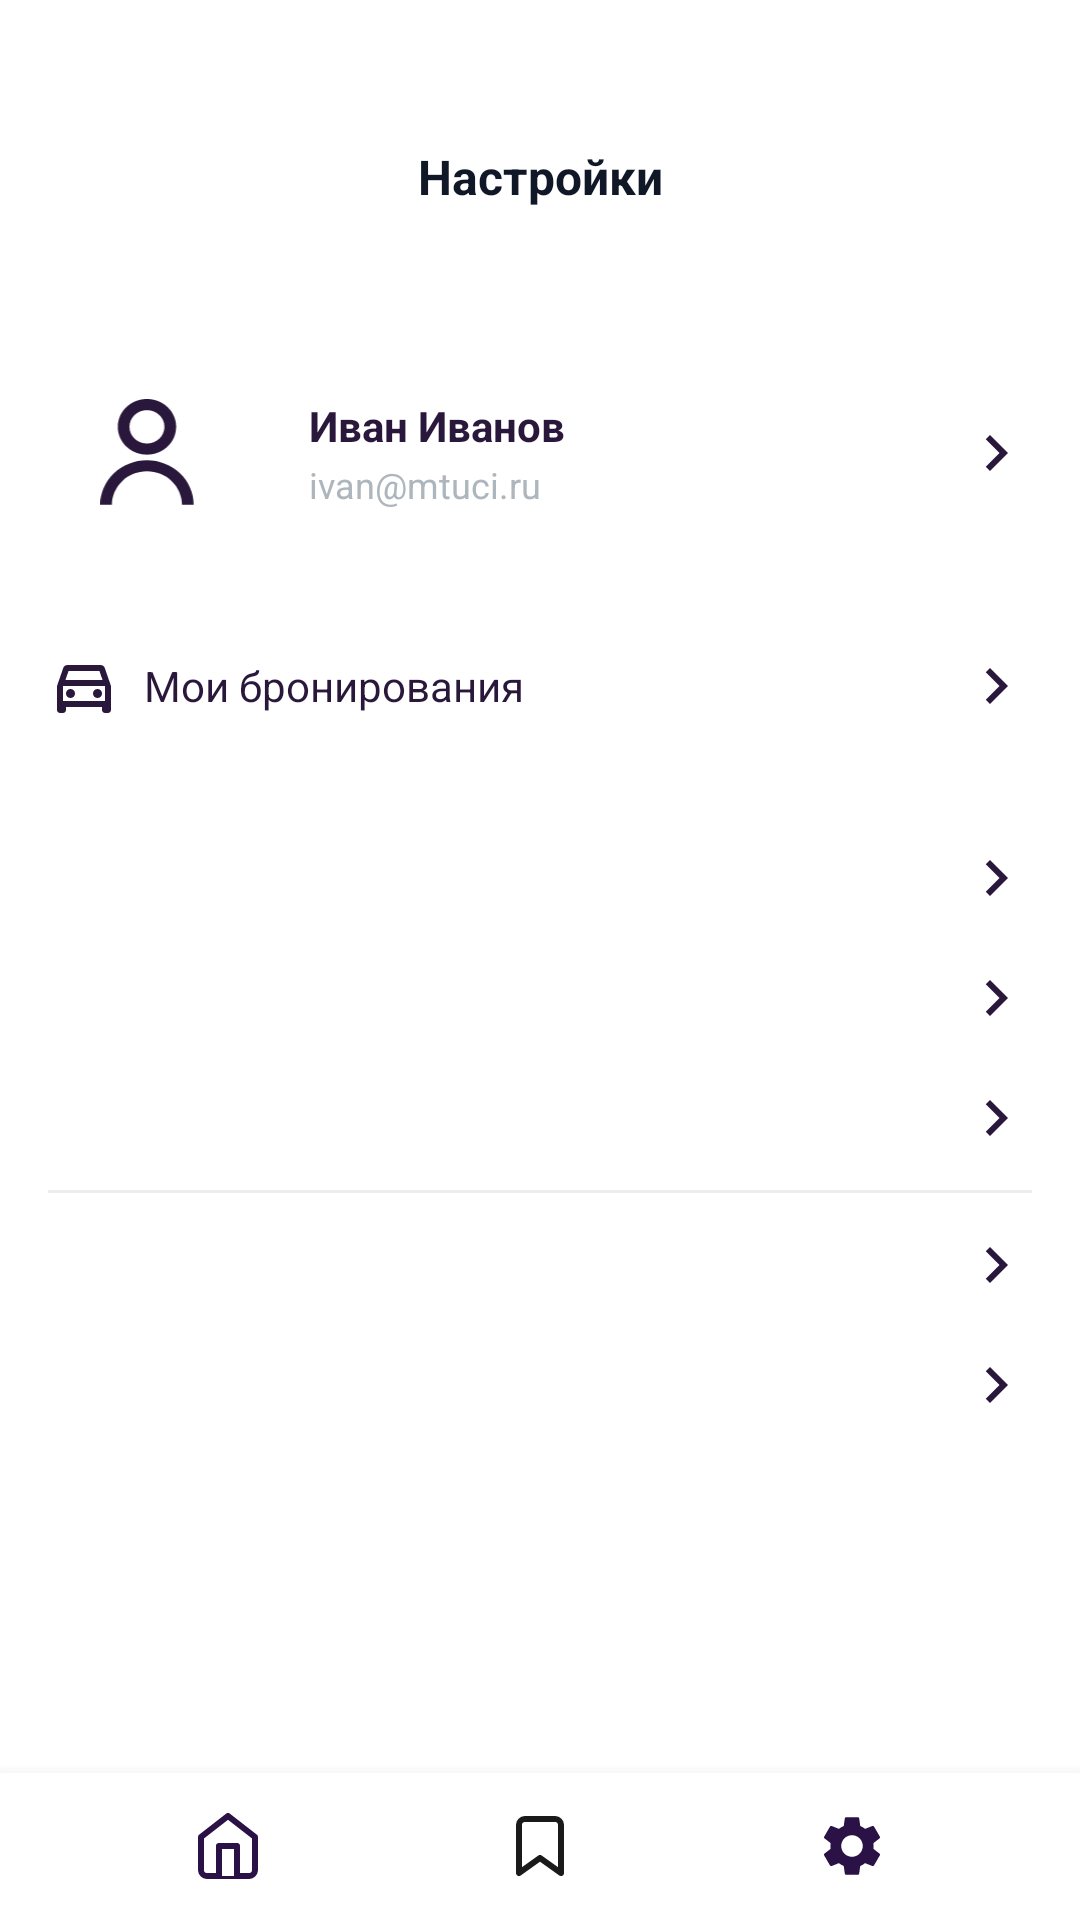

Icon click points for this 1080px×1920px phone screenshot, format (x,y):
bookmark: (540,1846)
chevron right: (997,453), (997,686), (997,878), (997,998), (997,1118), (997,1265), (997,1385)
home: (228,1846)
settings: (852,1846)
